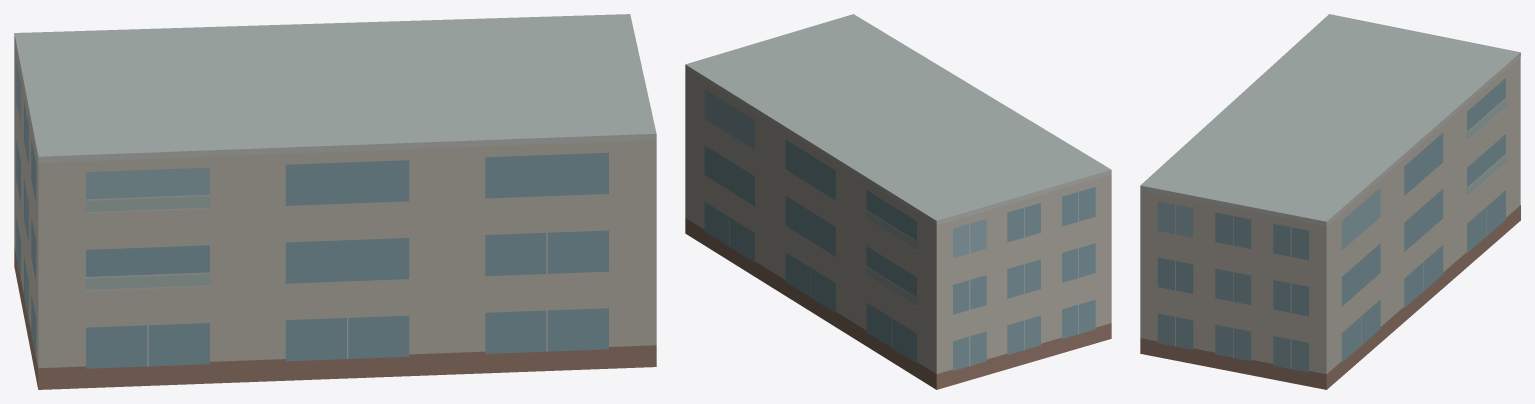
Rendered from survey-upis-32968254.glb.
The picture shows the model from 3 angles, left to right: view 1: azimuth 30°, elevation 25°; view 2: azimuth 150°, elevation 25°; view 3: azimuth 270°, elevation 25°; orthographic projection. The views are drawn at different scales.
Visible parts, largest first — view 1: survey-upis-32968254.tmp; view 2: survey-upis-32968254.tmp; view 3: survey-upis-32968254.tmp.
Boxes of the visible parts, x1,y1,x2,y2 form: survey-upis-32968254.tmp: (14,14,656,389); survey-upis-32968254.tmp: (685,14,1111,389); survey-upis-32968254.tmp: (1140,14,1520,389).
Bounding box in the file's own units: 24.24 × 9.15 × 18.77.
